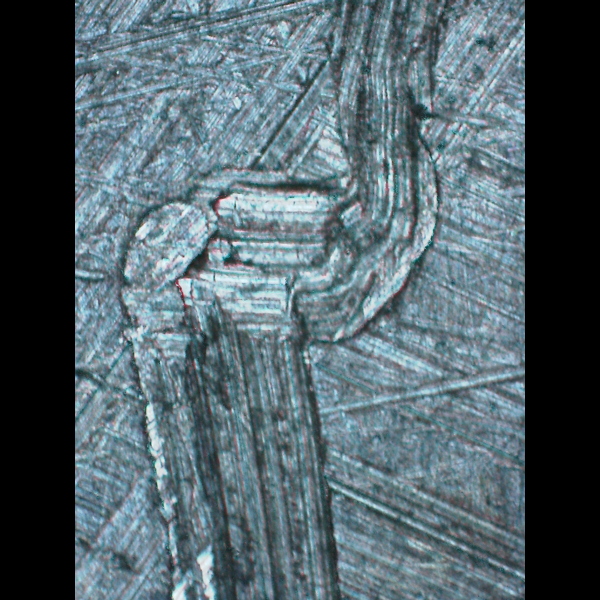d: (114, 0, 475, 595)
